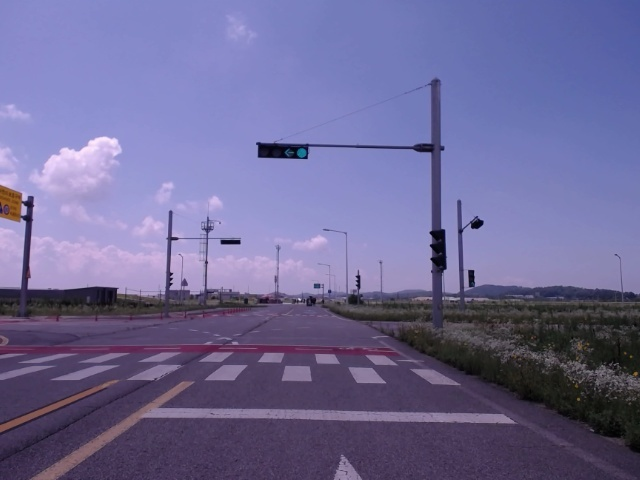all_green_4: (258, 142, 308, 158)
